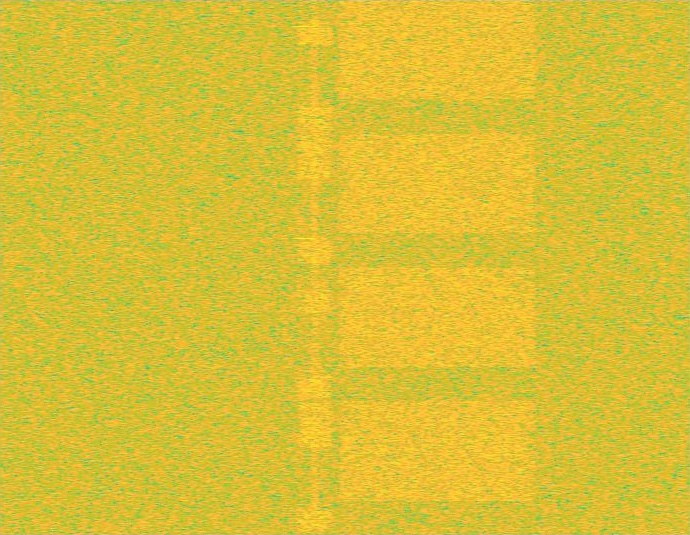5G: (334, 0, 541, 534)
DSSS: (311, 0, 319, 534)
LTE: (298, 0, 332, 534)
Radar: (298, 0, 312, 534)
